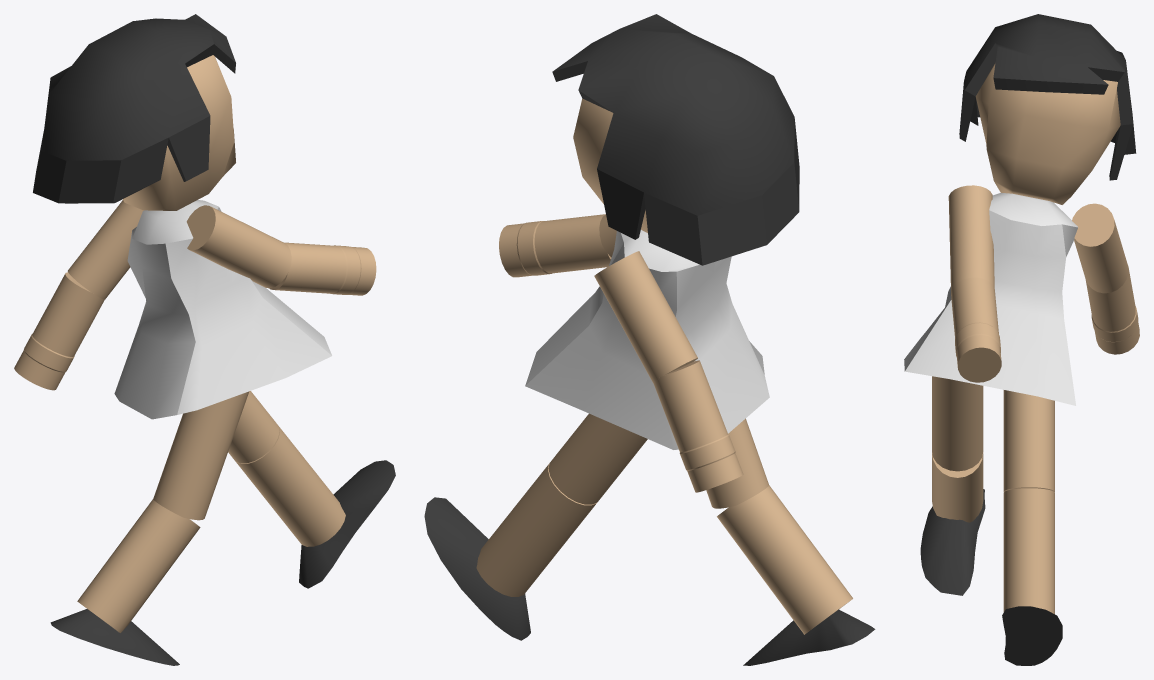
The model's file is Littlegirl_Walk_Chr.fbx.
The picture shows the model from 3 angles, left to right: view 1: azimuth 30°, elevation 25°; view 2: azimuth 150°, elevation 25°; view 3: azimuth 270°, elevation 25°; orthographic projection. The views are drawn at different scales.
Parts seen in each view (by area): view 1: polySurface17, polySurface5, pCylinder3, pCylinder1, pCylinder4, polySurface16, pCylinder5, pCone2, pCylinder8, polySurface8, pCone1, polySurface11 (+5 smaller); view 2: polySurface17, polySurface5, pCylinder3, pCylinder4, pCylinder8, pCone2, pCylinder2, polySurface8, polySurface11, pCone1, pCylinder1, polySurface16 (+4 smaller); view 3: polySurface5, polySurface16, polySurface17, pCylinder4, pCylinder2, pCylinder1, pCylinder5, pCone1, pCylinder8, pCone2, pCylinder3, polySurface11 (+5 smaller).
Part boxes in pixels (x1,y1,x2,y2): polySurface17: (33,14,235,203); polySurface5: (114,200,331,419); pCylinder3: (77,499,200,632); pCylinder1: (153,391,249,520); pCylinder4: (236,427,345,546); polySurface16: (122,55,235,210); pCylinder5: (186,205,291,288); pCone2: (299,460,395,588); pCylinder8: (67,200,143,299); polySurface8: (32,272,104,356); pCone1: (50,609,179,665); polySurface11: (269,242,346,293); polySurface17: (552,14,799,265); polySurface5: (525,230,769,449); pCylinder3: (717,485,852,634); pCylinder4: (476,464,596,596); pCylinder8: (594,251,697,382); pCone2: (424,497,530,640); pCylinder2: (548,413,647,504); polySurface8: (653,360,727,452); polySurface11: (534,214,611,273); pCone1: (743,609,875,665); pCylinder1: (706,418,768,508); polySurface16: (573,98,647,232); polySurface5: (904,193,1077,405); polySurface16: (975,63,1120,204); polySurface17: (959,14,1136,180); pCylinder4: (1003,488,1054,614); pCylinder2: (1003,390,1054,492); pCylinder1: (932,376,983,471); pCylinder5: (948,185,994,290); pCone1: (920,489,985,595); pCylinder8: (1072,203,1128,293); pCone2: (1002,606,1062,665); pCylinder3: (932,452,983,522); polySurface11: (951,277,998,338).
Size of the model in its own units: 3.06 by 4.74 by 1.73.
